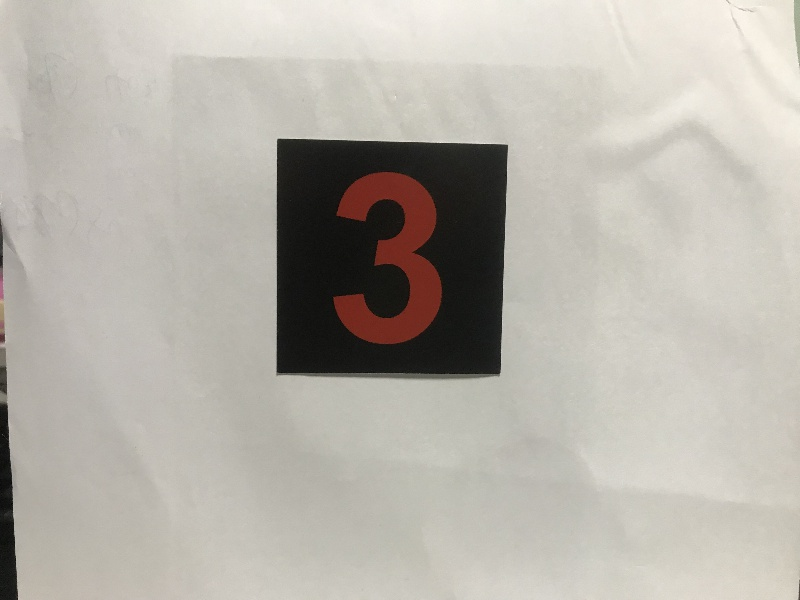Three-8: (280, 145, 500, 372)
